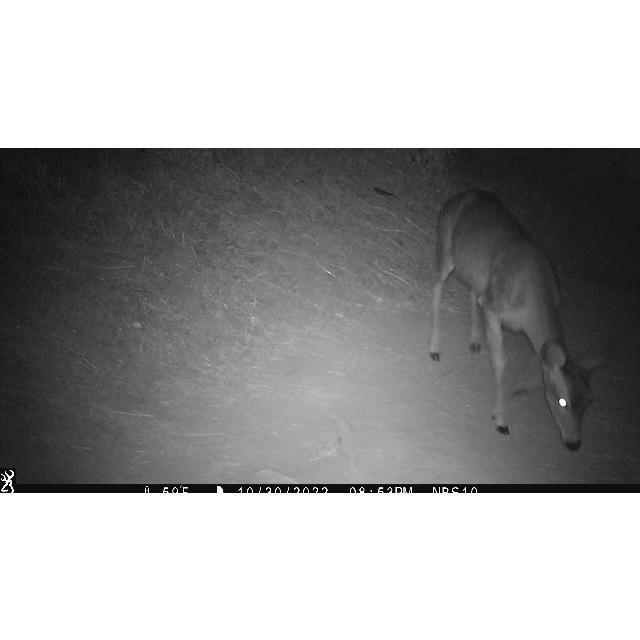animals: (423, 185, 617, 457)
